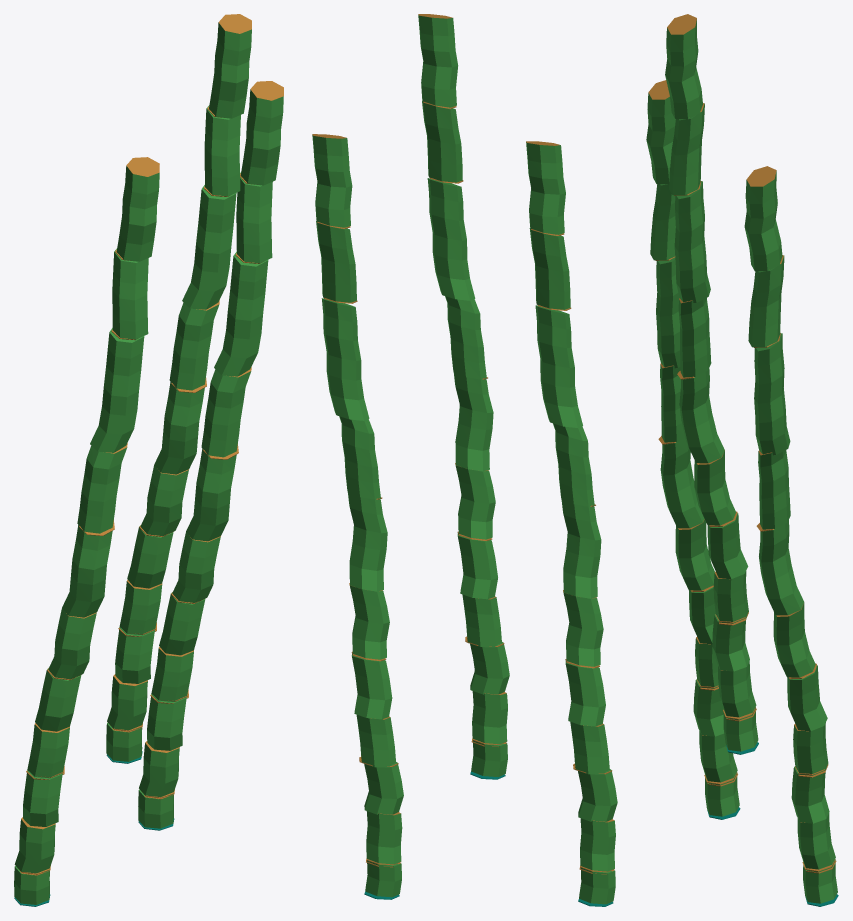
The model's file is bamboo_1.gltf.
3 renders of one model, left to right at view 1: azimuth 30°, elevation 25°; view 2: azimuth 150°, elevation 25°; view 3: azimuth 270°, elevation 25°, orthographic. The views are drawn at different scales.
Parts seen in each view (by area): view 1: node_MeshObject184795136-PolyPaper11.002, node_MeshObject184795136-PolyPaper11, node_MeshObject184795136-PolyPaper11.001; view 2: node_MeshObject184795136-PolyPaper11.001, node_MeshObject184795136-PolyPaper11, node_MeshObject184795136-PolyPaper11.002; view 3: node_MeshObject184795136-PolyPaper11.001, node_MeshObject184795136-PolyPaper11, node_MeshObject184795136-PolyPaper11.002.
Part boxes in pixels (x1,y1,x2,y2): node_MeshObject184795136-PolyPaper11.002: [14, 157, 159, 906]; node_MeshObject184795136-PolyPaper11: [106, 14, 251, 763]; node_MeshObject184795136-PolyPaper11.001: [138, 81, 283, 830]; node_MeshObject184795136-PolyPaper11.001: [312, 134, 403, 899]; node_MeshObject184795136-PolyPaper11: [418, 14, 509, 779]; node_MeshObject184795136-PolyPaper11.002: [526, 141, 617, 906]; node_MeshObject184795136-PolyPaper11.001: [744, 166, 838, 906]; node_MeshObject184795136-PolyPaper11: [665, 14, 758, 754]; node_MeshObject184795136-PolyPaper11.002: [646, 80, 740, 819].
Bounding box in the file's own units: 0.7991 × 2.27 × 0.4457.
